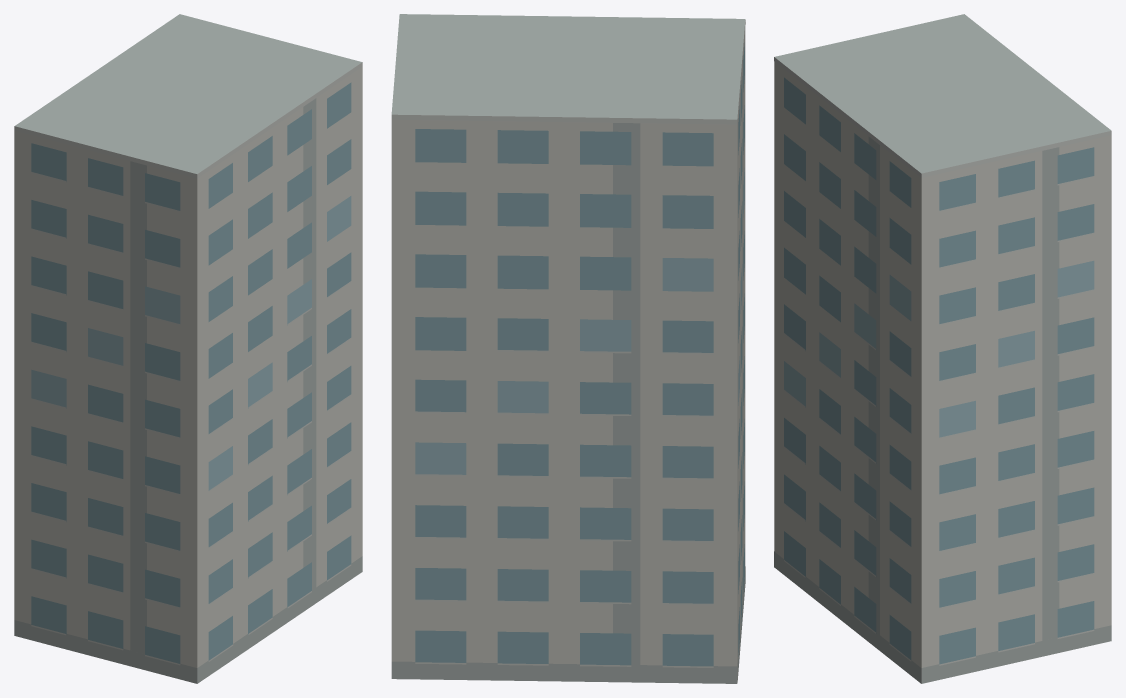
The model's file is residential-cd1039e3-4971-4896-8cb8-a8fc7dbf2383.glb.
The picture shows the model from 3 angles, left to right: view 1: azimuth 30°, elevation 25°; view 2: azimuth 150°, elevation 25°; view 3: azimuth 270°, elevation 25°; orthographic projection. The views are drawn at different scales.
Parts seen in each view (by area): view 1: residential-cd1039e3-4971-4896-8cb8-a8fc7dbf2383.tmp; view 2: residential-cd1039e3-4971-4896-8cb8-a8fc7dbf2383.tmp; view 3: residential-cd1039e3-4971-4896-8cb8-a8fc7dbf2383.tmp.
Boxes of the visible parts, x1=… form: residential-cd1039e3-4971-4896-8cb8-a8fc7dbf2383.tmp: x1=14, y1=14, x2=362, y2=683; residential-cd1039e3-4971-4896-8cb8-a8fc7dbf2383.tmp: x1=391, y1=14, x2=745, y2=683; residential-cd1039e3-4971-4896-8cb8-a8fc7dbf2383.tmp: x1=774, y1=14, x2=1111, y2=683.
Size of the model in its own units: 18.42 by 27.45 by 16.46.
